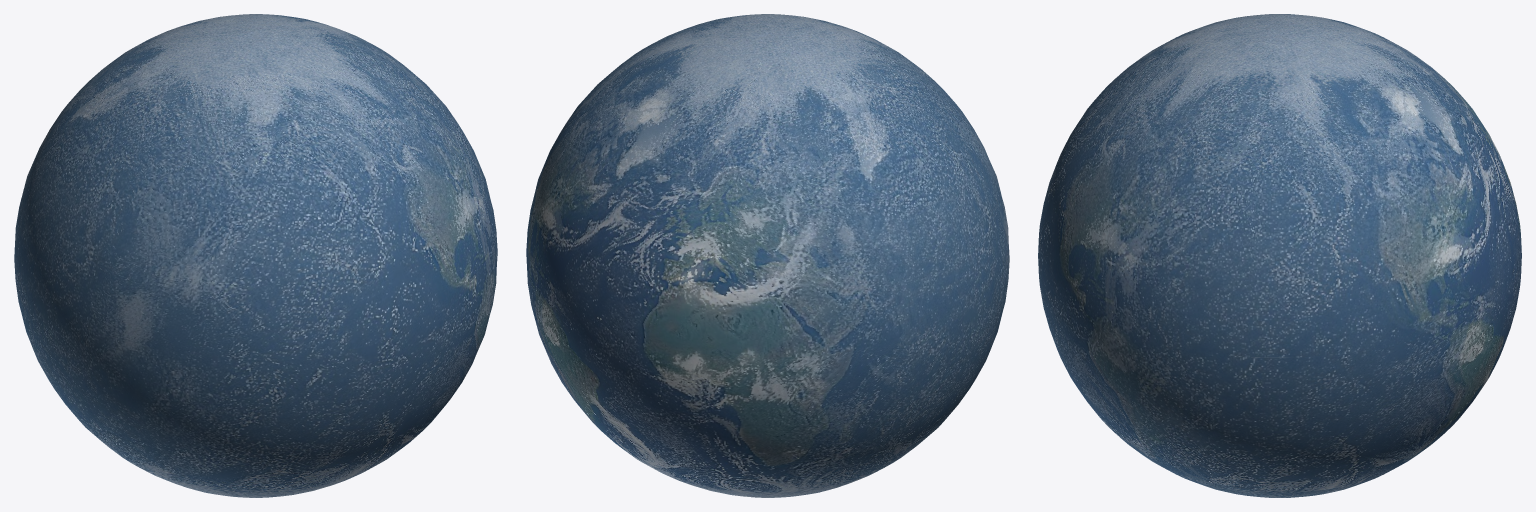
File: tripo_convert_4916fd49-3f0e-4452-814b-acb67f58f3e5.fbx
3 renders of one model, left to right at view 1: azimuth 30°, elevation 25°; view 2: azimuth 150°, elevation 25°; view 3: azimuth 270°, elevation 25°, orthographic.
Parts seen in each view (by area): view 1: tripo_node_4916fd49; view 2: tripo_node_4916fd49; view 3: tripo_node_4916fd49.
Part boxes in pixels (x1=…): tripo_node_4916fd49: x1=14, y1=14, x2=497, y2=497; tripo_node_4916fd49: x1=526, y1=14, x2=1009, y2=497; tripo_node_4916fd49: x1=1038, y1=14, x2=1521, y2=497.
Size of the model in its own units: 0.998 by 0.998 by 0.998.
1 material, 1 textured.
